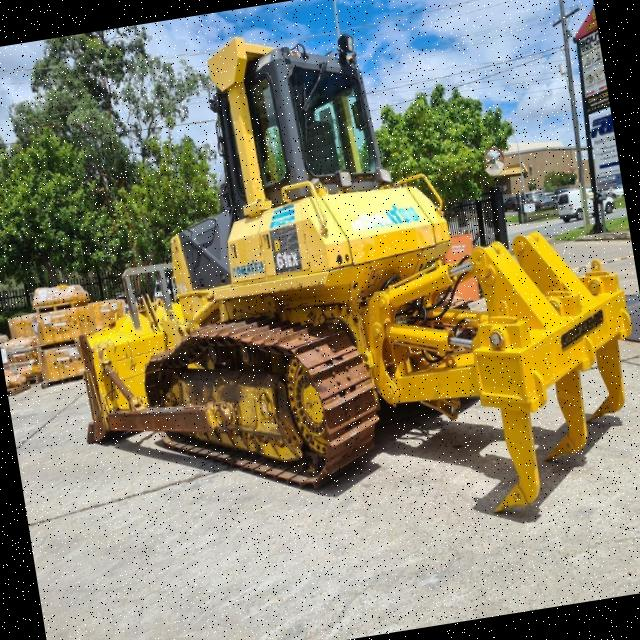Bulldozer: (19, 0, 640, 604)
